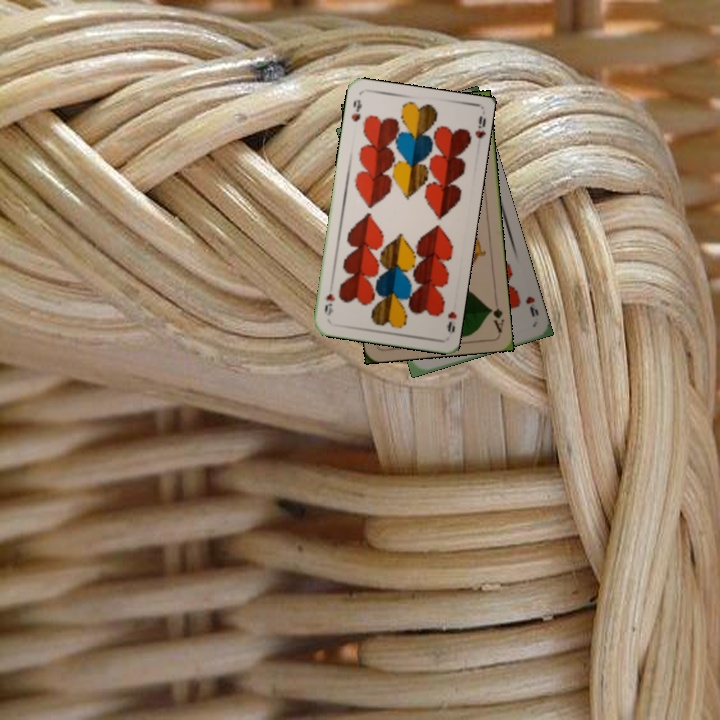GA: (485, 303, 506, 335)
H9: (521, 292, 541, 320), (347, 95, 364, 124), (443, 308, 459, 335)
